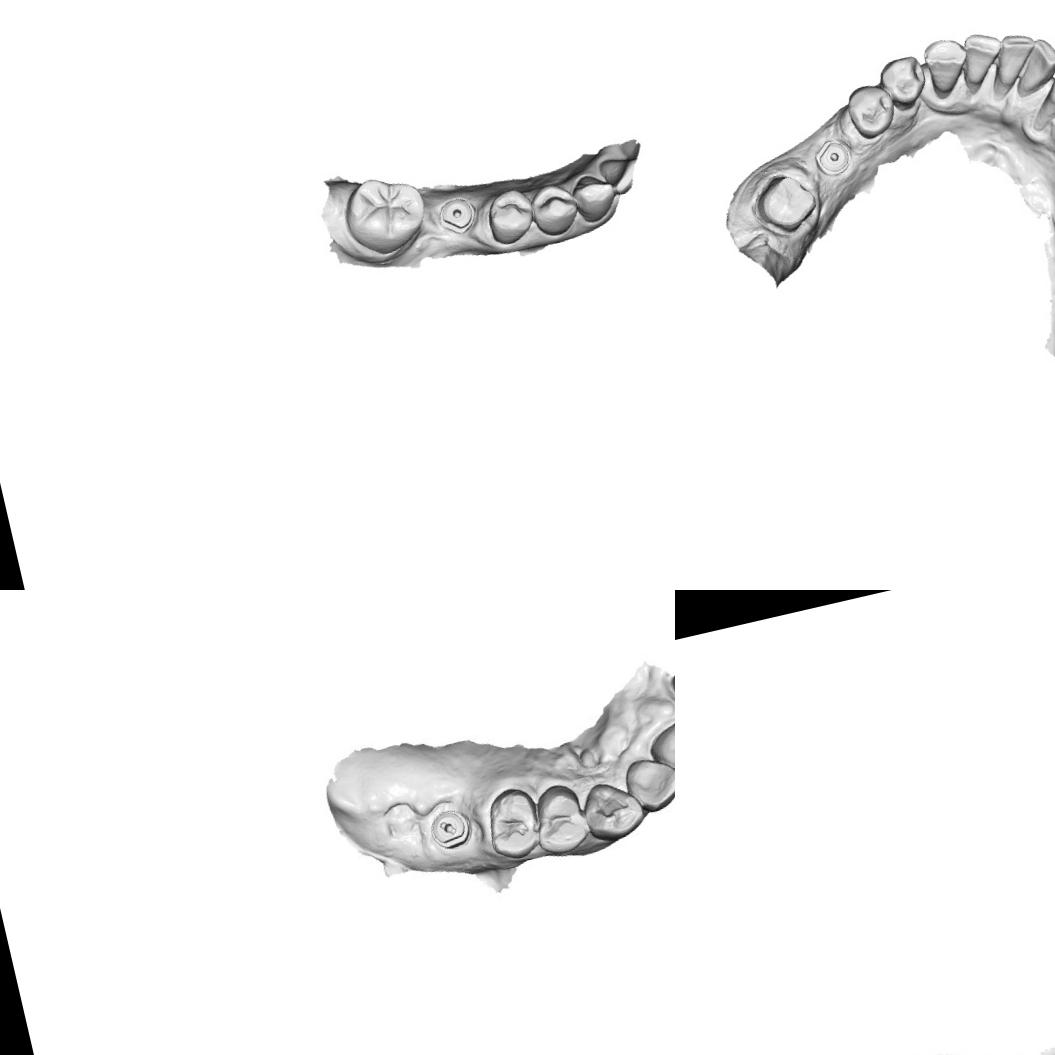canine: (584, 776, 652, 844), (920, 34, 976, 100), (568, 170, 620, 225)
crown: (748, 166, 822, 239)
implant: (434, 193, 480, 239), (810, 134, 856, 180)
implant_minus: (427, 804, 472, 852)
incisor: (956, 26, 1009, 88), (624, 751, 675, 813), (994, 28, 1042, 80), (597, 153, 645, 199), (1023, 33, 1055, 90), (649, 713, 675, 779)
molar: (337, 167, 434, 262)
premolar: (477, 782, 546, 864), (526, 780, 594, 862), (842, 78, 900, 142), (482, 185, 540, 248), (874, 52, 932, 114), (526, 178, 583, 239)
